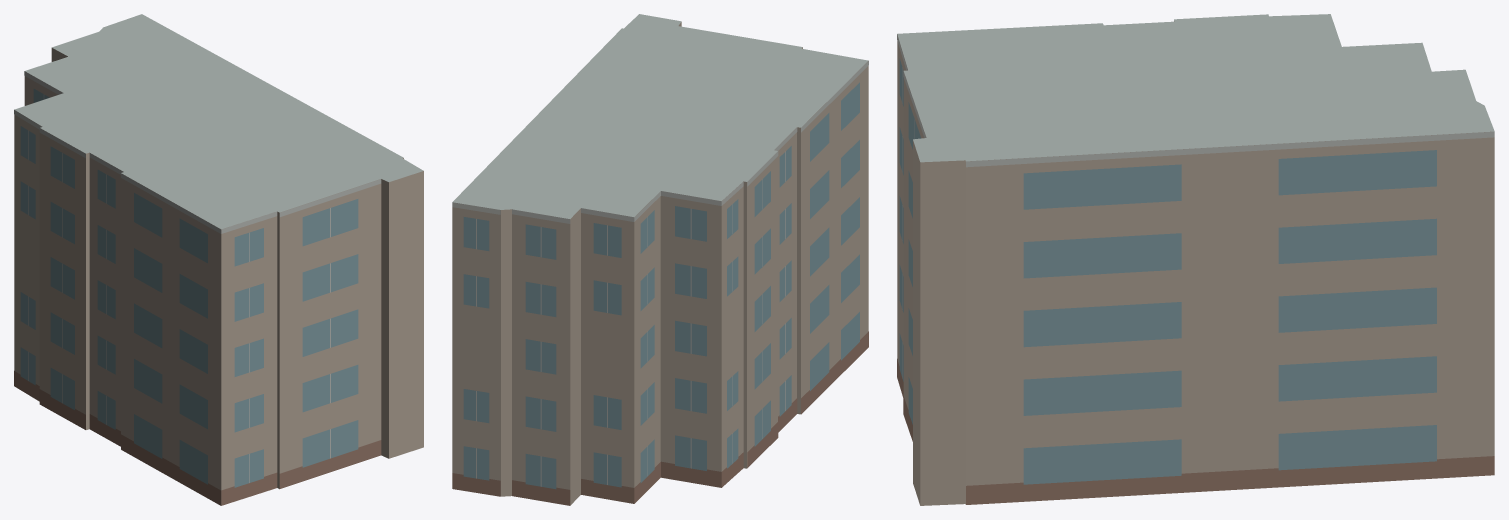
The model's file is survey-upis-32660593.glb.
The picture shows the model from 3 angles, left to right: view 1: azimuth 30°, elevation 25°; view 2: azimuth 150°, elevation 25°; view 3: azimuth 270°, elevation 25°; orthographic projection. The views are drawn at different scales.
Parts seen in each view (by area): view 1: survey-upis-32660593.tmp; view 2: survey-upis-32660593.tmp; view 3: survey-upis-32660593.tmp.
Part boxes in pixels (x1,y1,x2,y2): survey-upis-32660593.tmp: (14,14,423,505); survey-upis-32660593.tmp: (452,14,868,505); survey-upis-32660593.tmp: (897,14,1494,505).
Size of the model in its own units: 13.19 by 14.25 by 22.47.
